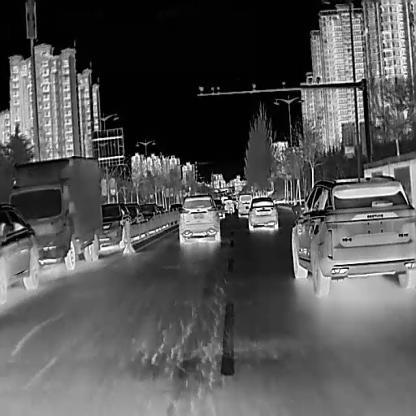car: (290, 173, 415, 300), (7, 155, 102, 270), (0, 202, 38, 305), (176, 192, 219, 242), (100, 202, 131, 246), (244, 193, 278, 230), (123, 203, 146, 237), (139, 203, 161, 229), (235, 194, 251, 217), (212, 198, 225, 219), (169, 202, 181, 220), (222, 198, 234, 213)
